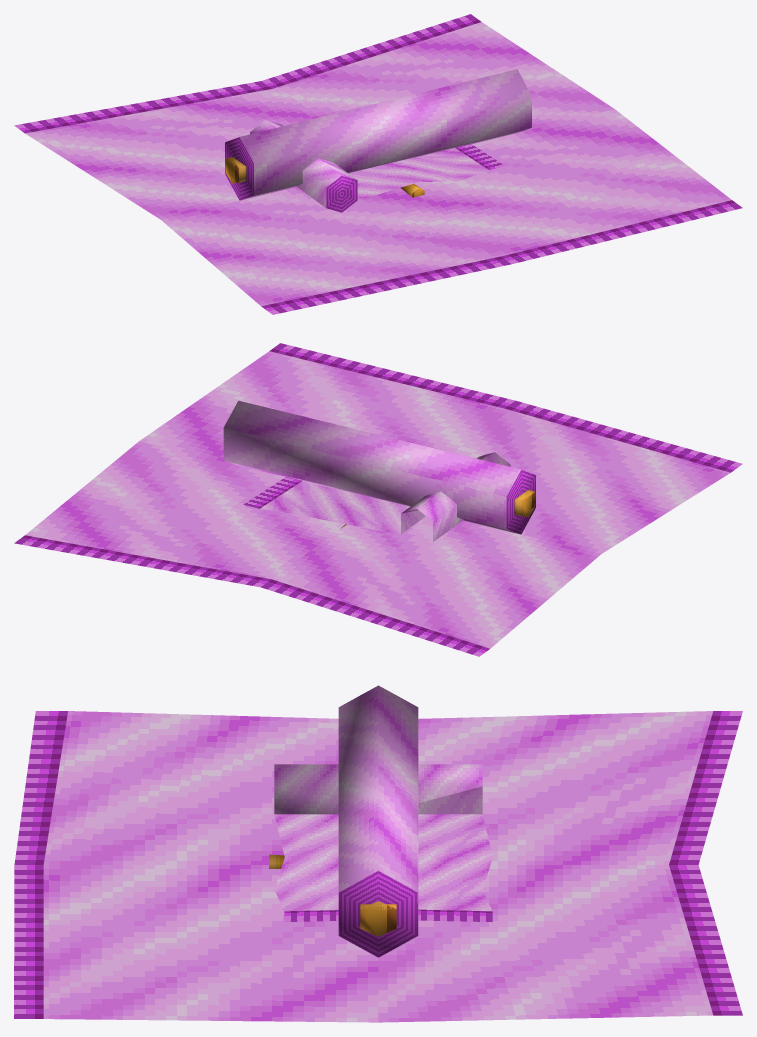
3 views of the same model, one above another, from view 1: azimuth 30°, elevation 25°; view 2: azimuth 150°, elevation 25°; view 3: azimuth 270°, elevation 25° (orthographic). The views are drawn at different scales.
Parts seen in each view (by area): view 1: 5305ucc_nunoji00; view 2: 5305ucc_nunoji00; view 3: 5305ucc_nunoji00.
Part boxes in pixels (<box>): 5305ucc_nunoji00: <box>14,14,742,314</box>; 5305ucc_nunoji00: <box>14,343,742,656</box>; 5305ucc_nunoji00: <box>14,685,742,1022</box>.
Bounding box in the file's own units: 2.02 × 0.2949 × 2.
Materials: 2 (2 with a texture image).
